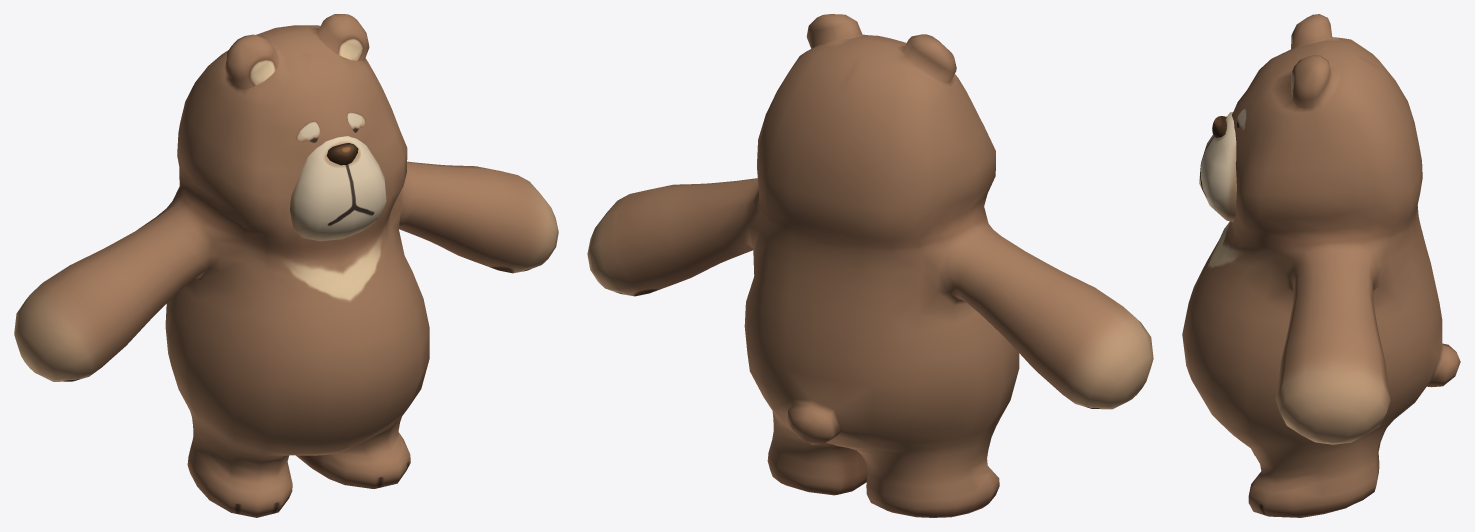
File: bear 1.fbx
The picture shows the model from 3 angles, left to right: view 1: azimuth 30°, elevation 25°; view 2: azimuth 150°, elevation 25°; view 3: azimuth 270°, elevation 25°; orthographic projection. The views are drawn at different scales.
Visible parts, largest first — view 1: bear; view 2: bear; view 3: bear.
Part boxes in pixels (bbox=[...]): bear: bbox=[14, 14, 558, 517]; bear: bbox=[587, 14, 1153, 517]; bear: bbox=[1182, 14, 1460, 517].
Bounding box in the file's own units: 212 × 176 × 100.
